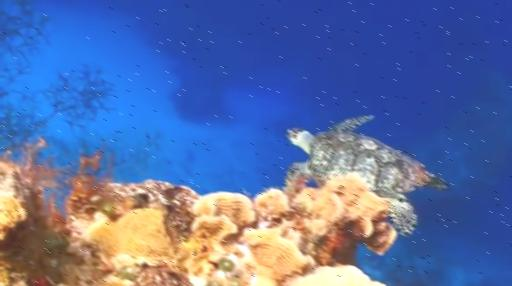Fish: (286, 115, 444, 235)
